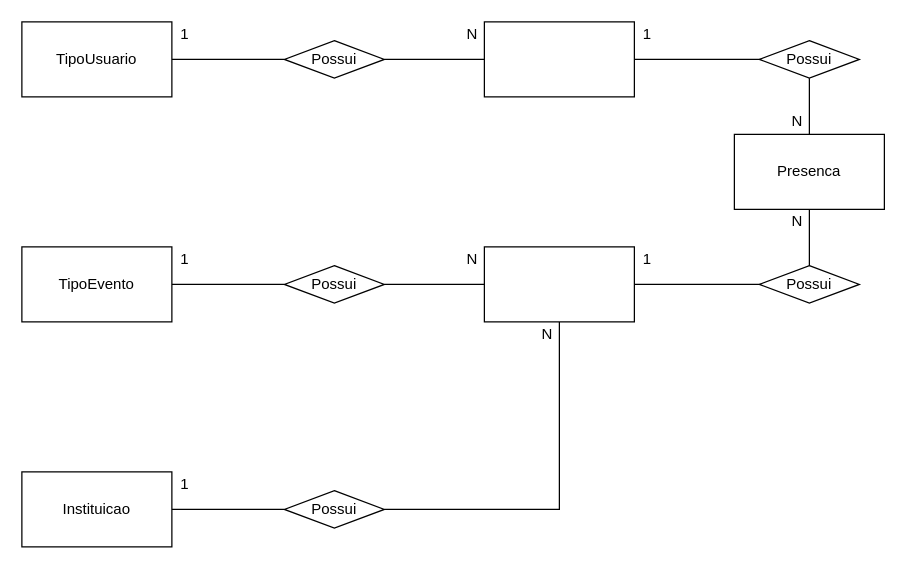
Image size: 906x569. Some labels were removed from this diagram. The shapes that lost their labels are listed below. From the top down, each one's centre as x and y in pixels, then its label:
the point at 558,59: Usuario
the point at 558,284: Evento
